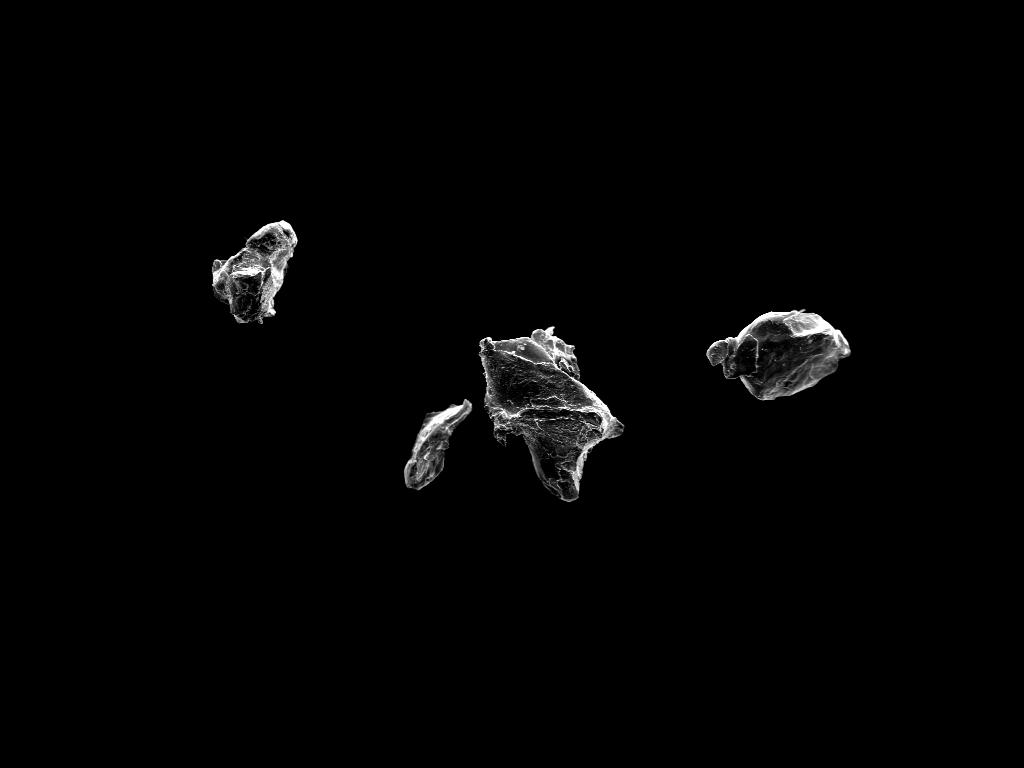Powder: (480, 328, 624, 501), (708, 310, 850, 400), (212, 220, 296, 324), (404, 400, 472, 489)
